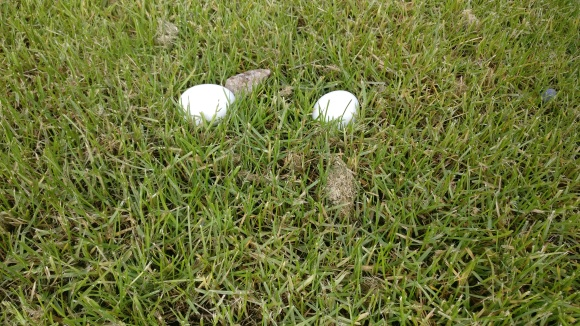egg: (176, 83, 237, 127), (313, 89, 361, 130)
